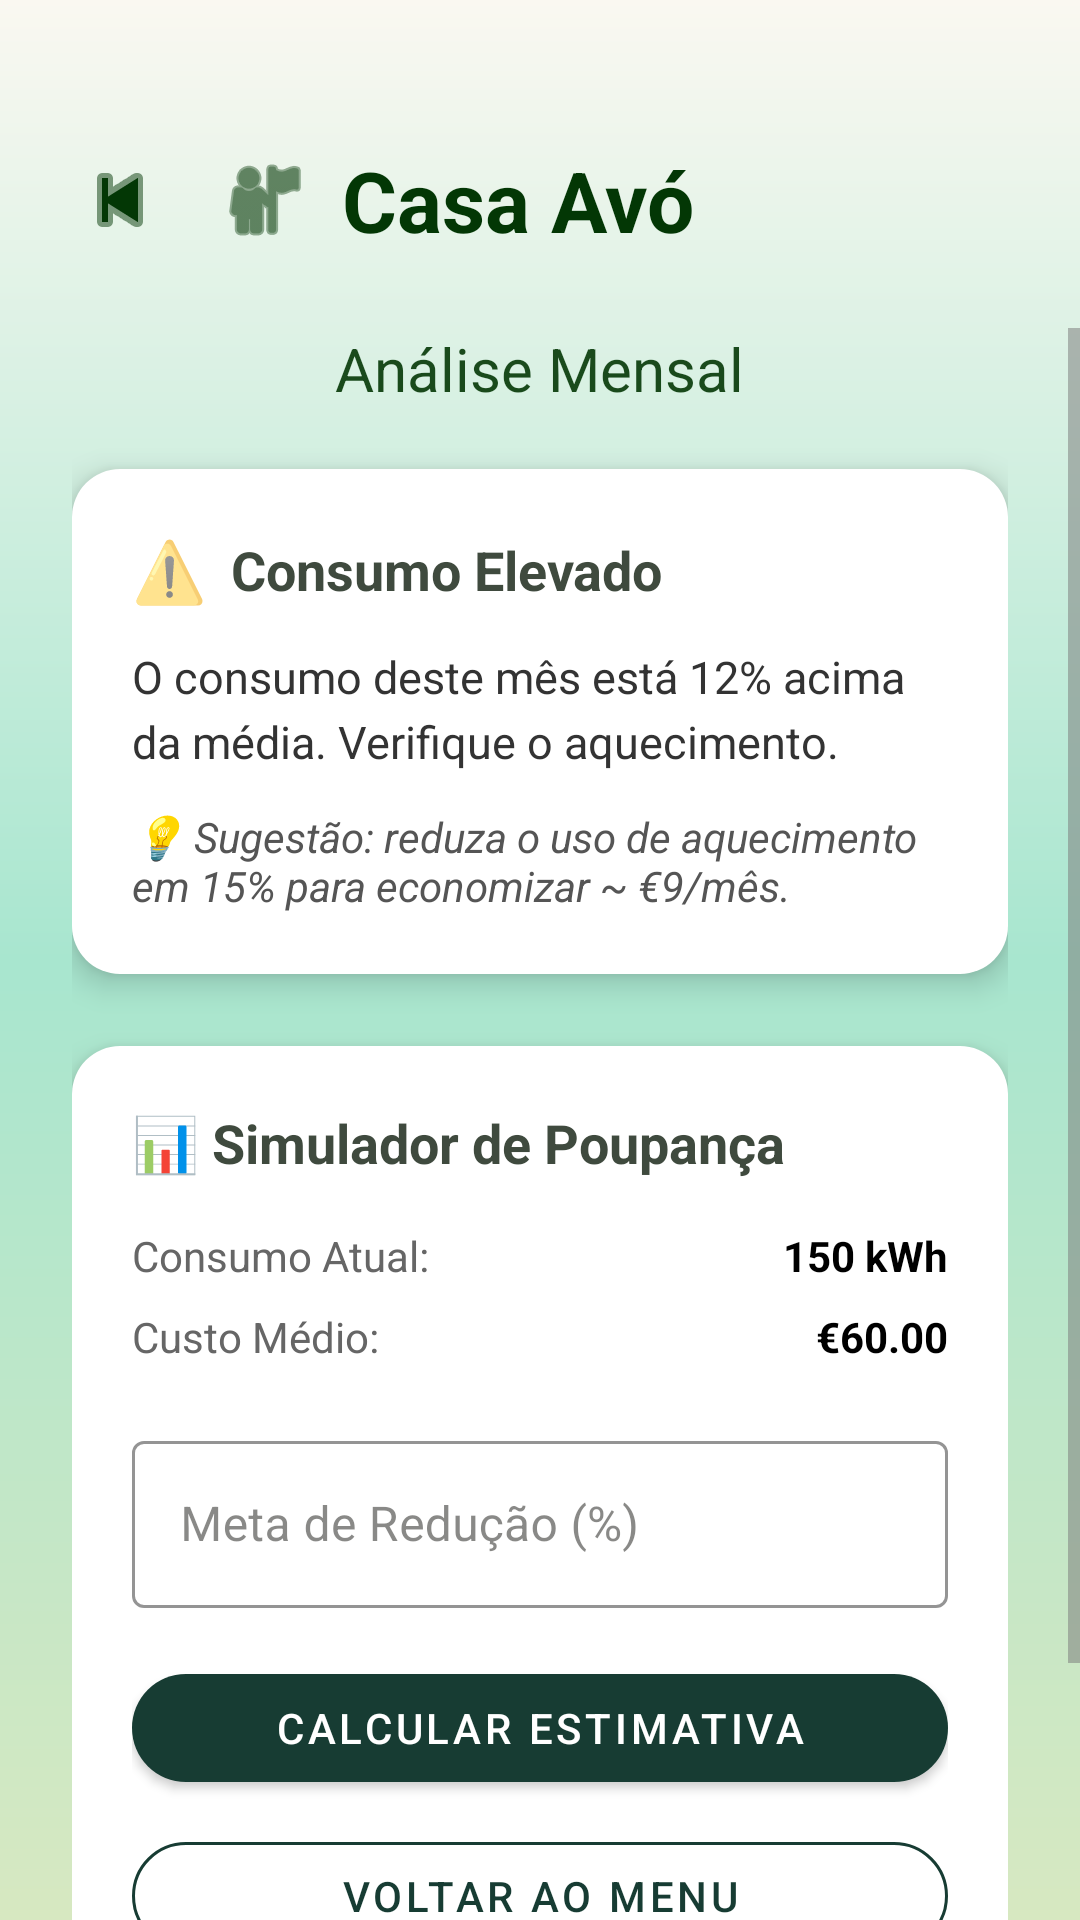

Screen size 1080 × 1920. Icon name, then its center in pixels as [x,y]:
Voltar: [120,200]
